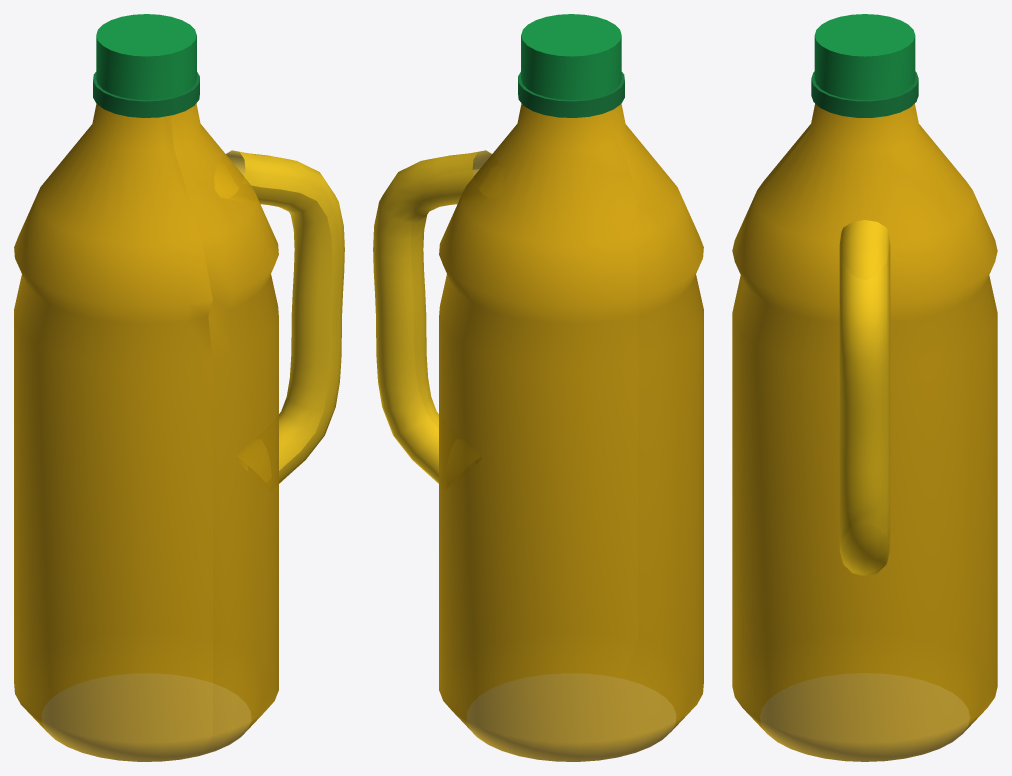
The model's file is oil-bottle.glb.
3 renders of one model, left to right at view 1: azimuth 30°, elevation 25°; view 2: azimuth 150°, elevation 25°; view 3: azimuth 270°, elevation 25°, orthographic.
Visible parts, largest first — view 1: Oil_Body, Oil_Curved_Handle, Oil_Cap, Oil_Neck_Ring; view 2: Oil_Body, Oil_Curved_Handle, Oil_Cap, Oil_Neck_Ring; view 3: Oil_Body, Oil_Curved_Handle, Oil_Cap, Oil_Neck_Ring.
Boxes of the visible parts, left/top/right/bottom form: Oil_Body: left=14, top=103, right=278, bottom=761; Oil_Curved_Handle: left=226, top=150, right=344, bottom=483; Oil_Cap: left=96, top=14, right=196, bottom=99; Oil_Neck_Ring: left=93, top=72, right=199, bottom=117; Oil_Body: left=439, top=103, right=703, bottom=761; Oil_Curved_Handle: left=373, top=150, right=491, bottom=483; Oil_Cap: left=521, top=14, right=621, bottom=99; Oil_Neck_Ring: left=518, top=72, right=624, bottom=117; Oil_Body: left=732, top=103, right=997, bottom=761; Oil_Curved_Handle: left=839, top=220, right=890, bottom=576; Oil_Cap: left=814, top=14, right=915, bottom=99; Oil_Neck_Ring: left=811, top=71, right=918, bottom=117.
Bounding box in the file's own units: 0.1564 × 0.329 × 0.116.
